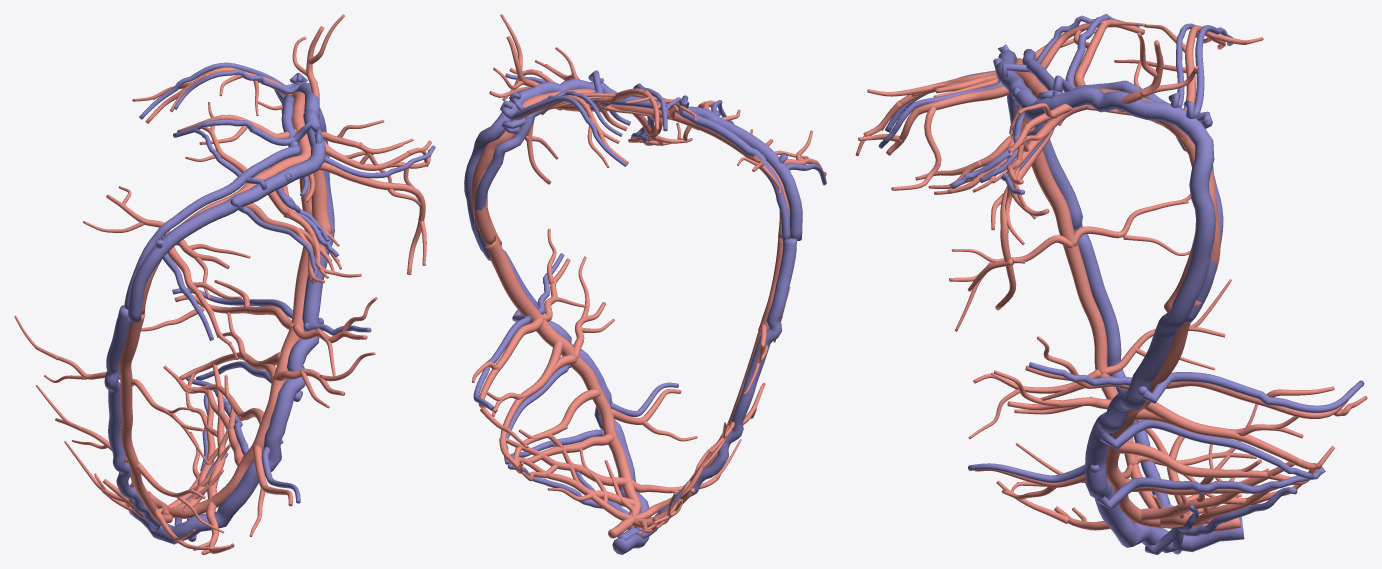
The model's file is vessels_49.glb.
3 renders of one model, left to right at view 1: azimuth 30°, elevation 25°; view 2: azimuth 150°, elevation 25°; view 3: azimuth 270°, elevation 25°, orthographic. The views are drawn at different scales.
Visible parts, largest first — view 1: Renderer Node; view 2: Renderer Node; view 3: Renderer Node.
Boxes of the visible parts, x1,y1,x2,y2 form: Renderer Node: [14, 14, 435, 554]; Renderer Node: [464, 14, 826, 554]; Renderer Node: [855, 14, 1367, 554].
Bounding box in the file's own units: 89.16 × 122 × 91.51.
